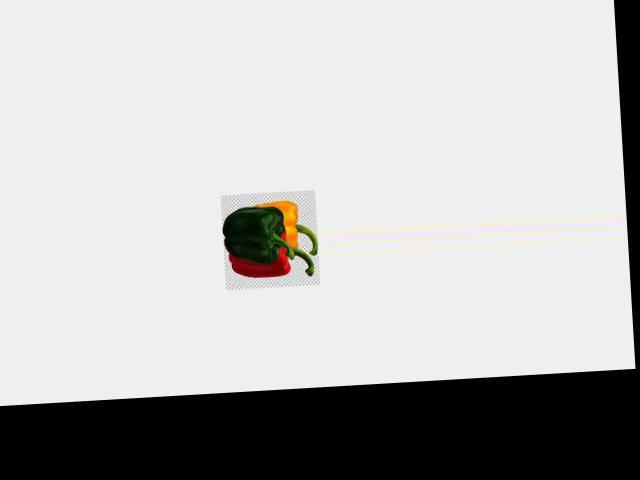bell_pepper: (225, 231, 317, 290)
